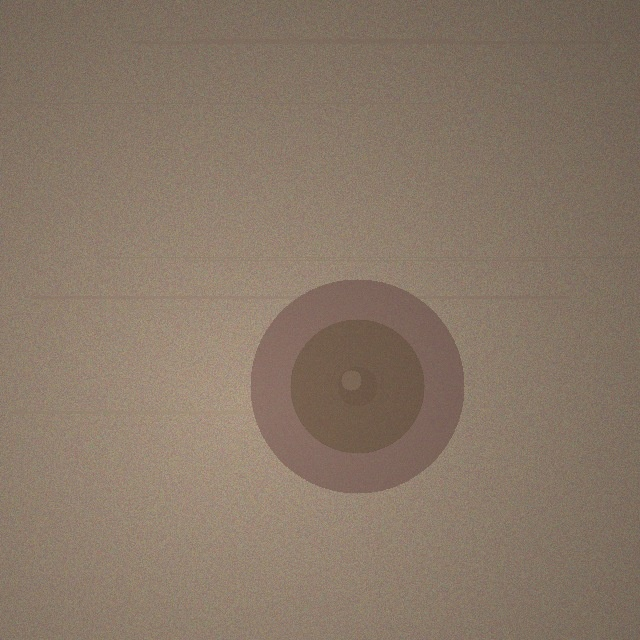good: (250, 279, 464, 493)
